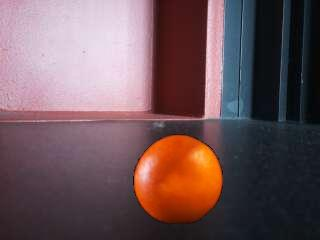Orange: (134, 134, 223, 226)
